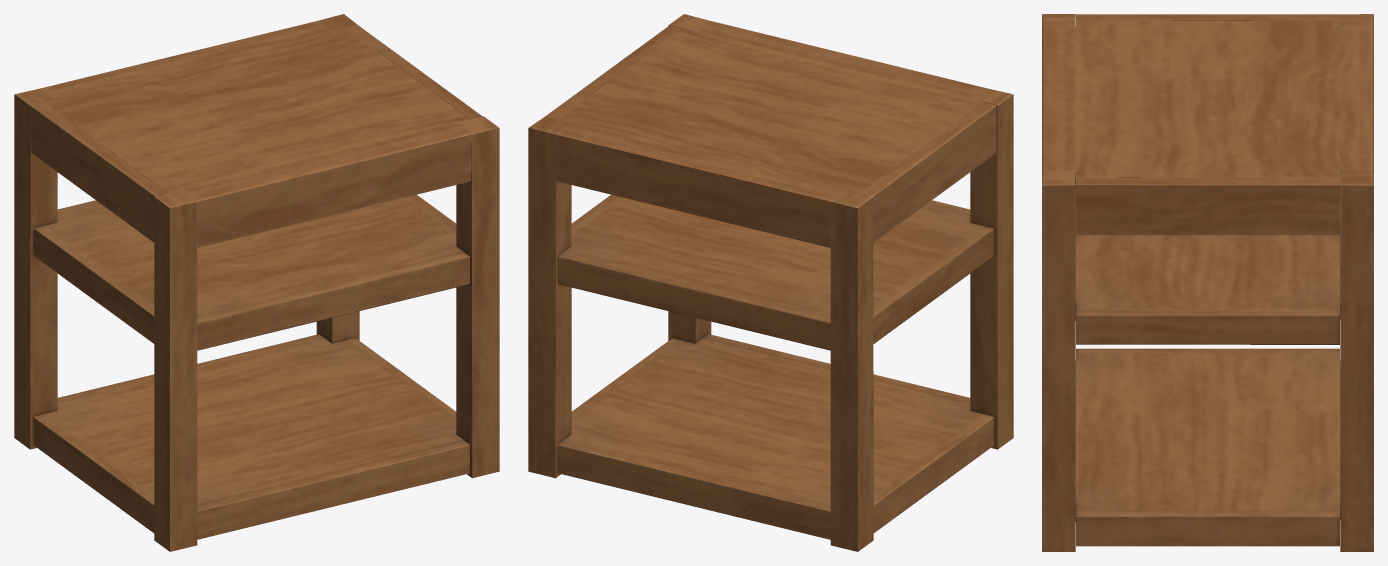
The model's file is table_side.glb.
3 renders of one model, left to right at view 1: azimuth 30°, elevation 25°; view 2: azimuth 150°, elevation 25°; view 3: azimuth 270°, elevation 25°, orthographic. The views are drawn at different scales.
Parts seen in each view (by area): view 1: mesh; view 2: mesh; view 3: mesh.
Boxes of the visible parts, x1=… form: mesh: x1=14, y1=14, x2=499, y2=551; mesh: x1=528, y1=14, x2=1013, y2=551; mesh: x1=1042, y1=14, x2=1373, y2=551.
Size of the model in its own units: 0.5499 by 0.5507 by 0.4499.
1 material, 1 textured.
